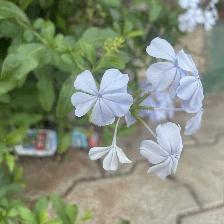chitrak: (70, 67, 133, 129), (148, 37, 199, 98), (140, 124, 183, 180), (90, 141, 134, 174)
